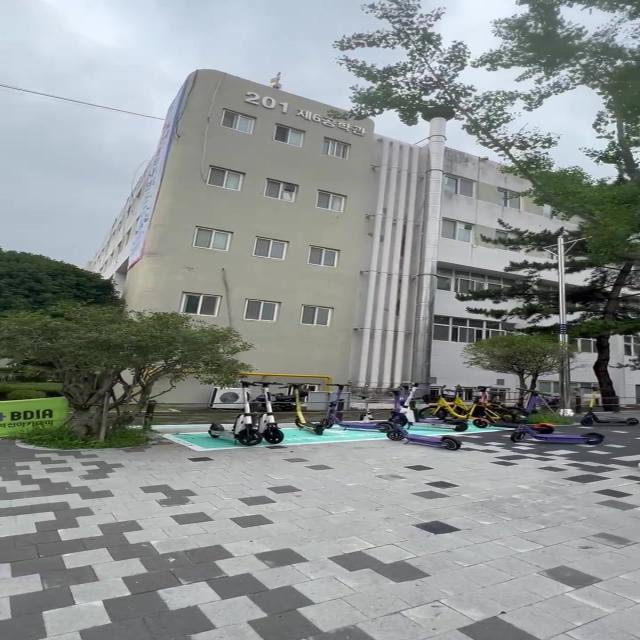building: (119, 65, 459, 345)
